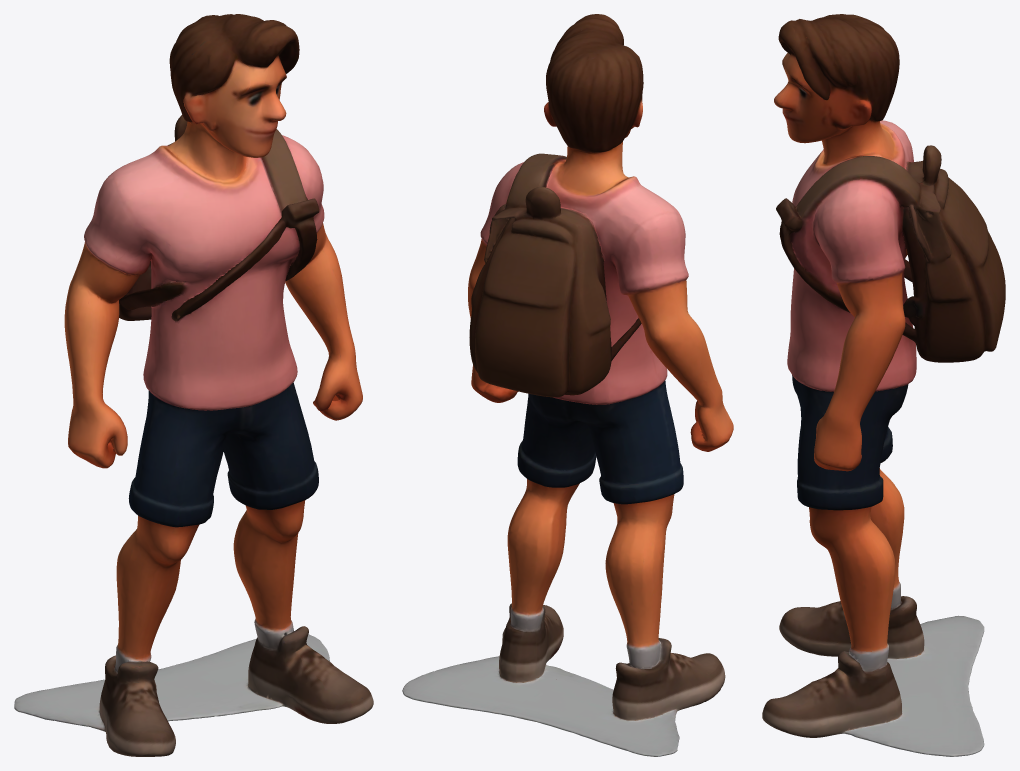
Rendered from traveler.web.glb.
3 renders of one model, left to right at view 1: azimuth 30°, elevation 25°; view 2: azimuth 150°, elevation 25°; view 3: azimuth 270°, elevation 25°, orthographic. The views are drawn at different scales.
Bounding box in the file's own units: 0.4448 × 1 × 0.3276.
1 material, 1 textured.
